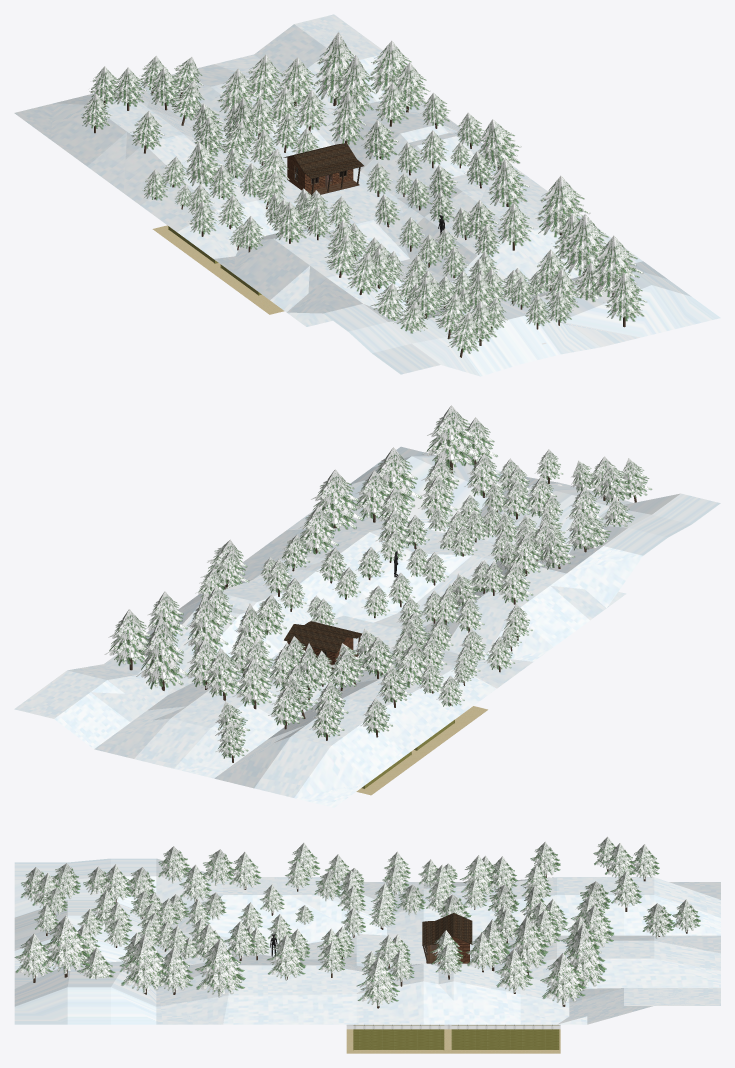
Rendered from whole_scene.gltf.
3 renders of one model, top to bottom at view 1: azimuth 30°, elevation 25°; view 2: azimuth 150°, elevation 25°; view 3: azimuth 270°, elevation 25°, orthographic. The views are drawn at different scales.
Parts seen in each view (by area): view 1: Plane.002, Plane.001, tree.120, tree.132, tree.097, tree.106, roof, backrooms-floor, tree.098, tree.101, tree.131, tree.095 (+51 smaller); view 2: Plane.001, Plane.002, tree.106, tree.132, tree.097, tree.107, backrooms-floor, roof, tree.120, tree.101, tree.108, tree.104 (+28 smaller); view 3: Plane.002, Plane.001, backrooms-walls, tree.132, tree.097, tree.120, tree.106, tree.107, backrooms-ceiling, backrooms-floor, tree.098, roof (+68 smaller).
Part boxes in pixels (<box>): Plane.002: <box>31,27,720,376</box>; Plane.001: <box>14,14,623,326</box>; tree.120: <box>558,214,608,275</box>; tree.132: <box>587,235,643,297</box>; tree.097: <box>534,175,590,237</box>; tree.106: <box>311,32,355,105</box>; roof: <box>283,143,363,178</box>; backrooms-floor: <box>152,225,284,314</box>; tree.098: <box>474,119,521,170</box>; tree.101: <box>333,55,376,115</box>; tree.131: <box>603,273,646,327</box>; tree.095: <box>488,159,529,207</box>; Plane.001: <box>14,516,626,807</box>; Plane.002: <box>51,446,720,795</box>; tree.106: <box>136,616,188,690</box>; tree.132: <box>422,405,479,472</box>; tree.097: <box>306,469,363,531</box>; tree.107: <box>104,609,151,670</box>; backrooms-floor: <box>356,706,487,795</box>; roof: <box>284,621,361,653</box>; tree.120: <box>376,447,422,507</box>; tree.101: <box>184,594,228,652</box>; tree.108: <box>201,648,241,700</box>; tree.104: <box>233,658,276,709</box>; Plane.002: <box>14,858,690,1024</box>; Plane.001: <box>186,877,720,1024</box>; backrooms-walls: <box>353,1025,559,1050</box>; tree.132: <box>41,915,91,977</box>; tree.097: <box>195,938,245,997</box>; tree.120: <box>120,934,166,994</box>; tree.106: <box>565,924,606,990</box>; tree.107: <box>540,953,586,1006</box>; backrooms-ceiling: <box>346,1024,560,1029</box>; backrooms-floor: <box>346,1029,560,1053</box>; tree.098: <box>356,957,399,1008</box>; roof: <box>422,913,472,945</box>.
Size of the model in its own units: 47.24 by 20.7 by 98.37.
Materials: 56 (45 with a texture image).
